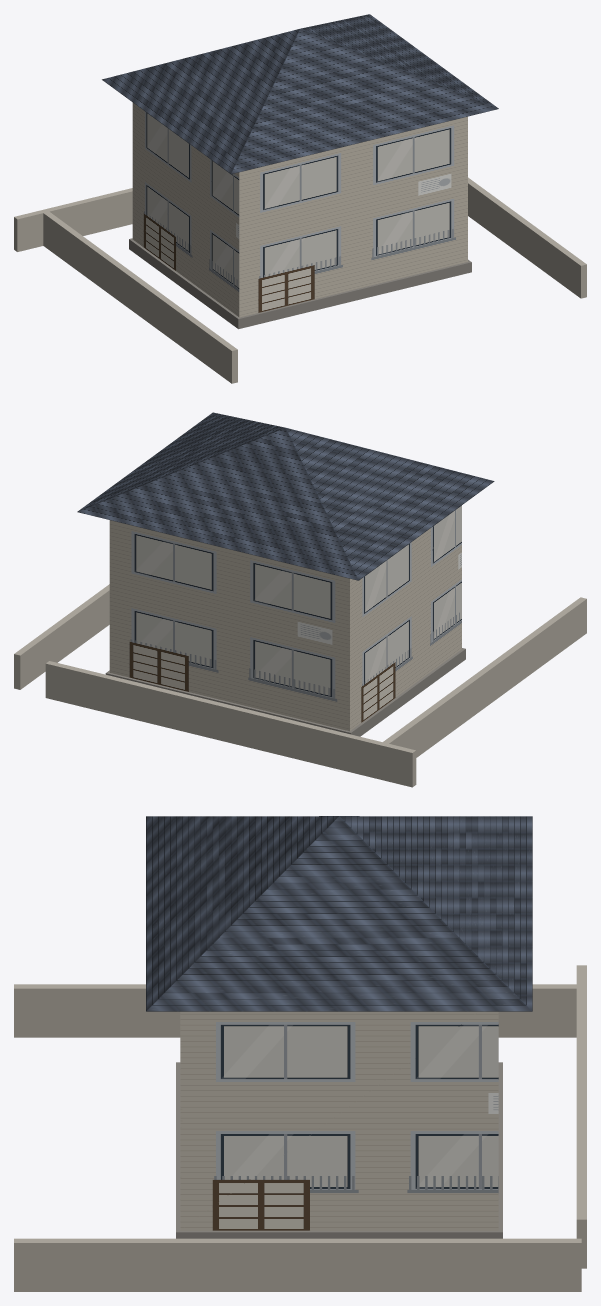
Rendered from house_a.glb.
3 views of the same model, one above another, from view 1: azimuth 30°, elevation 25°; view 2: azimuth 150°, elevation 25°; view 3: azimuth 270°, elevation 25° (orthographic). The views are drawn at different scales.
Parts seen in each view (by area): view 1: jhouse; view 2: jhouse; view 3: jhouse.
Part boxes in pixels (box(x1,y1,x2,y2)): jhouse: box(14, 14, 586, 383); jhouse: box(14, 412, 586, 787); jhouse: box(14, 816, 586, 1291).
Size of the model in its own units: 15.81 by 9.2 by 13.79.
4 materials, 2 textured.
